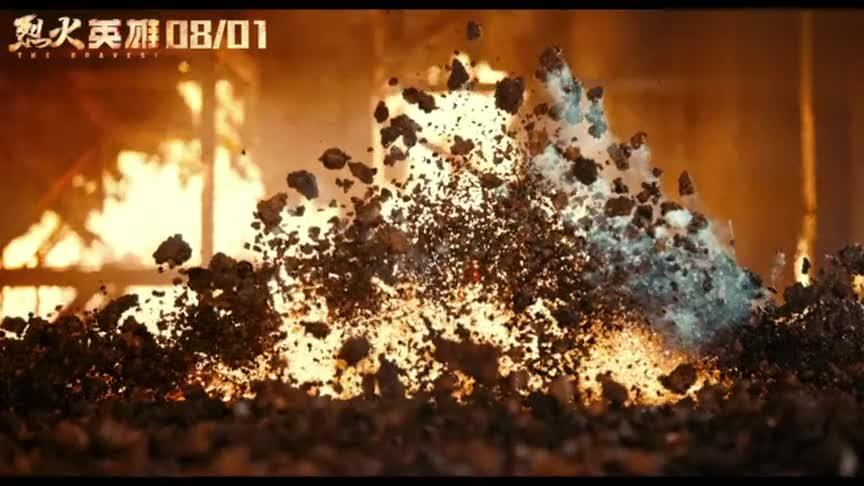fire: (0, 53, 795, 401)
